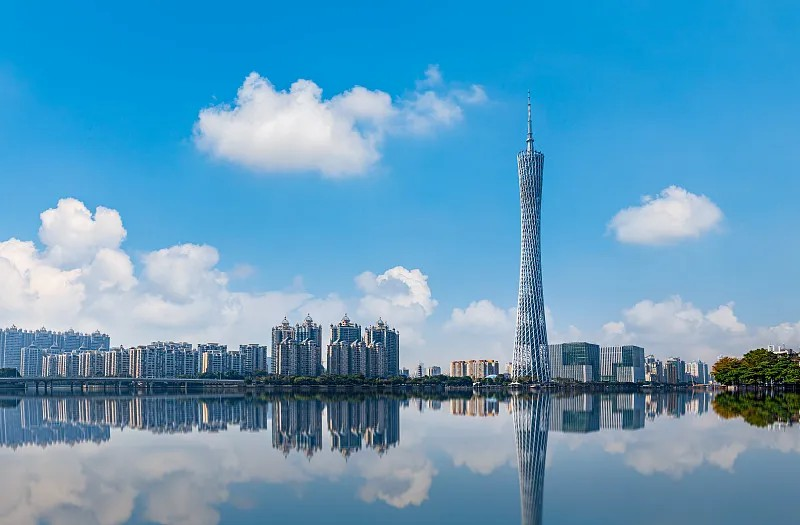Canton: (510, 87, 550, 384)
